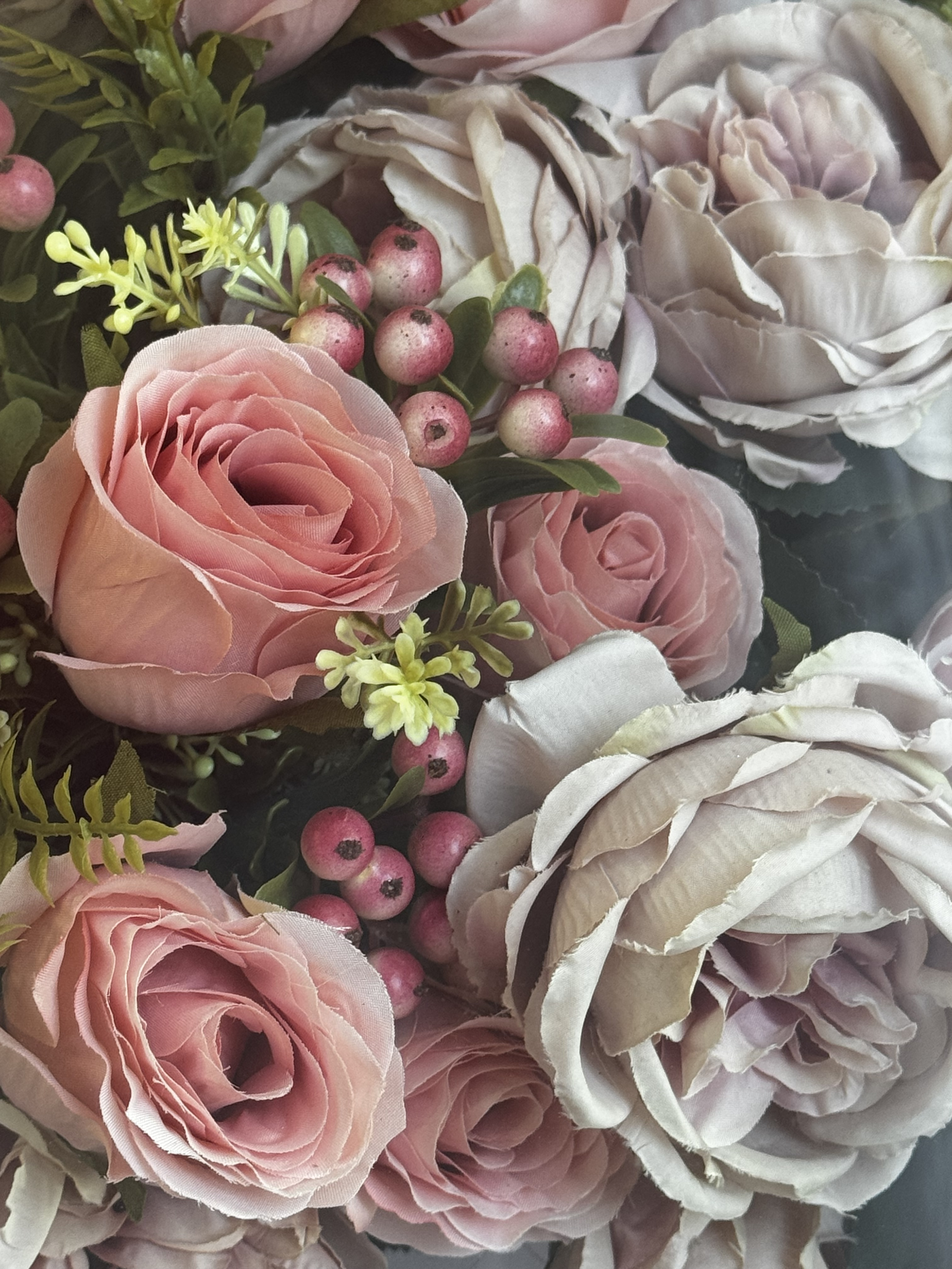rose: (4, 323, 466, 727), (0, 840, 419, 1210), (312, 981, 650, 1251), (473, 417, 774, 693)
